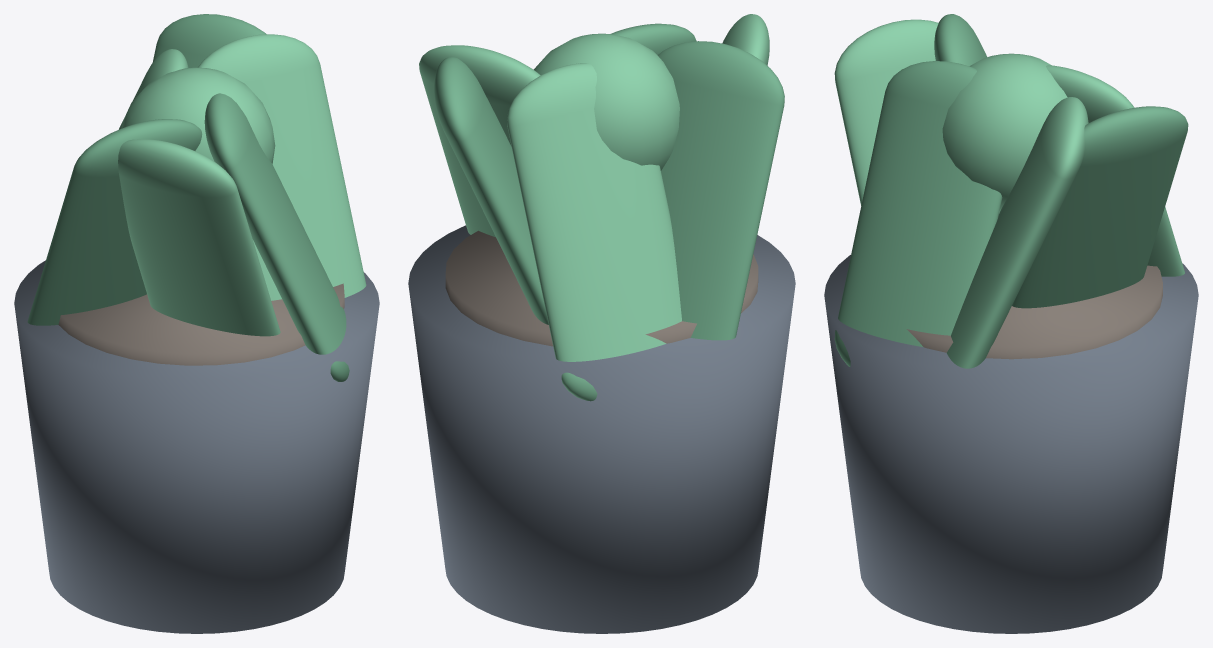
File: hub-plant.glb
3 views of the same model, side by side, from view 1: azimuth 30°, elevation 25°; view 2: azimuth 150°, elevation 25°; view 3: azimuth 270°, elevation 25° (orthographic). The views are drawn at different scales.
Visible parts, largest first — view 1: PlantPot, PlantLeaf_03, PlantLeaf_01, PlantLeaf_04, PlantLeaf_02, PlantSoil, PlantBud, PlantLeaf_06, PlantLeaf_05; view 2: PlantPot, PlantLeaf_05, PlantLeaf_04, PlantLeaf_06, PlantBud, PlantSoil, PlantLeaf_01, PlantLeaf_03, PlantLeaf_02; view 3: PlantPot, PlantLeaf_02, PlantLeaf_06, PlantLeaf_01, PlantBud, PlantSoil, PlantLeaf_03, PlantLeaf_05, PlantLeaf_04.
Boxes of the visible parts, x1=… form: PlantPot: x1=14, y1=260, x2=379, y2=633; PlantLeaf_03: x1=118, y1=139, x2=280, y2=336; PlantLeaf_01: x1=198, y1=34, x2=366, y2=300; PlantLeaf_04: x1=27, y1=119, x2=202, y2=325; PlantLeaf_02: x1=204, y1=93, x2=349, y2=381; PlantSoil: x1=58, y1=283, x2=344, y2=365; PlantBud: x1=121, y1=67, x2=275, y2=163; PlantLeaf_06: x1=152, y1=14, x2=266, y2=67; PlantLeaf_05: x1=119, y1=49, x2=188, y2=129; PlantPot: x1=408, y1=225, x2=795, y2=633; PlantLeaf_05: x1=507, y1=63, x2=681, y2=401; PlantLeaf_04: x1=657, y1=41, x2=784, y2=340; PlantLeaf_06: x1=434, y1=57, x2=548, y2=324; PlantBud: x1=533, y1=33, x2=679, y2=170; PlantSoil: x1=445, y1=230, x2=758, y2=346; PlantLeaf_01: x1=419, y1=45, x2=540, y2=237; PlantLeaf_03: x1=722, y1=14, x2=769, y2=65; PlantLeaf_02: x1=611, y1=23, x2=696, y2=54; PlantPot: x1=824, y1=255, x2=1198, y2=633; PlantLeaf_02: x1=834, y1=61, x2=1002, y2=366; PlantLeaf_06: x1=1012, y1=106, x2=1188, y2=308; PlantLeaf_01: x1=947, y1=97, x2=1088, y2=368; PlantBud: x1=942, y1=53, x2=1067, y2=212; PlantSoil: x1=906, y1=265, x2=1162, y2=359; PlantLeaf_03: x1=834, y1=19, x2=999, y2=213; PlantLeaf_05: x1=1046, y1=65, x2=1184, y2=276; PlantLeaf_04: x1=934, y1=14, x2=986, y2=66.
Size of the model in its own units: 0.084 by 0.126 by 0.084.
